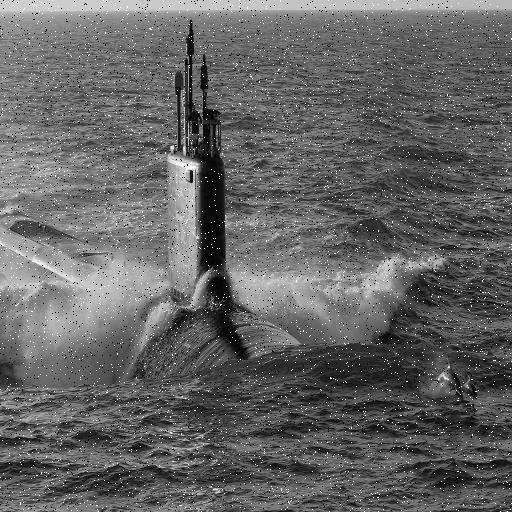submarine: (1, 19, 327, 375)
